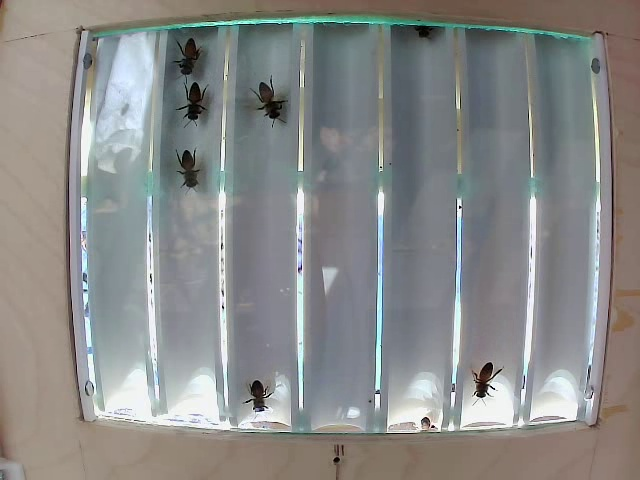bee: (242, 367, 292, 415), (162, 145, 203, 196), (252, 74, 286, 121), (171, 37, 212, 72), (465, 364, 488, 406), (183, 81, 208, 119)
